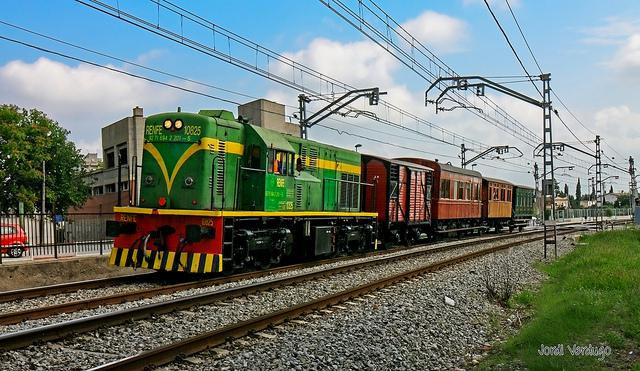Train: (107, 113, 538, 274)
